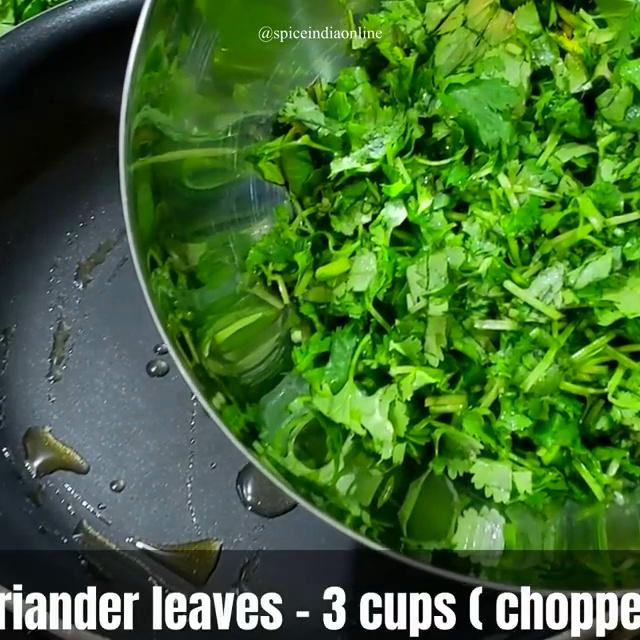cilantro: (362, 11, 640, 449)
